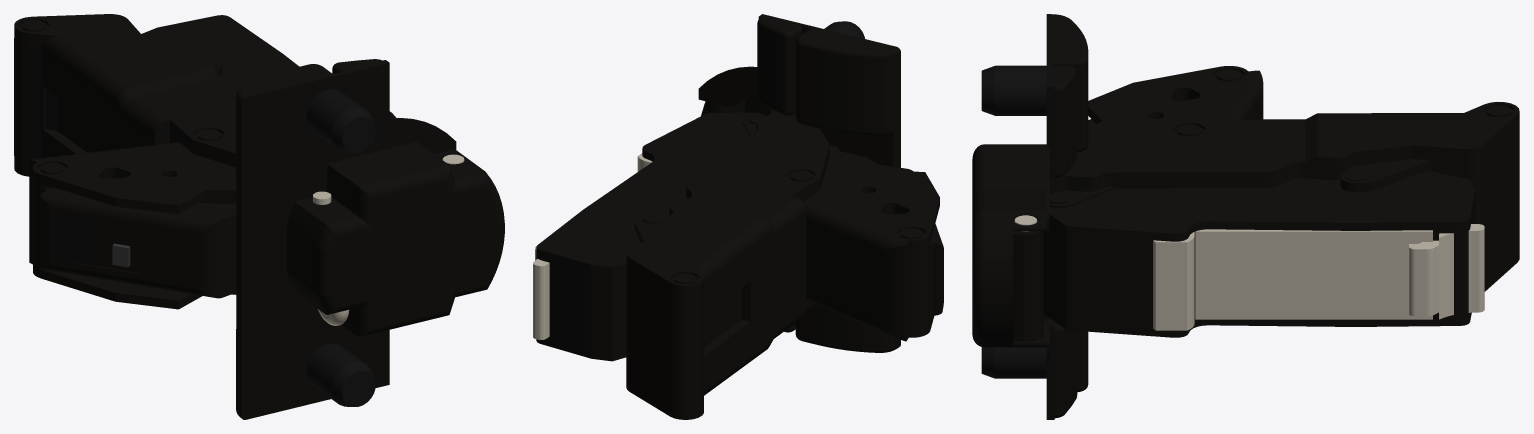
The picture shows the model from 3 angles, left to right: view 1: azimuth 30°, elevation 25°; view 2: azimuth 150°, elevation 25°; view 3: azimuth 270°, elevation 25°; orthographic projection. The views are drawn at different scales.
Visible parts, largest first — view 1: bau0081900639-1, bau0079291413-1, bau0079324562-1, bau0079298416-1, bau0082110774-1, bau0082114196-1; view 2: bau0079291413-1, bau0081900639-1, bau0079298416-1, bau0082110774-1, bau0082114196-1, bau0025540121-1, bau0079324562-1; view 3: bau0079291413-1, bau0082110774-1, bau0025540121-1, bau0081900639-1, bau0079298416-1, bau0082114196-1.
Part boxes in pixels (box(x1,y1,x2,y2)): bau0081900639-1: box(236, 59, 504, 419); bau0079291413-1: box(14, 14, 248, 176); bau0079324562-1: box(40, 187, 236, 298); bau0079298416-1: box(29, 142, 236, 309); bau0082110774-1: box(141, 15, 396, 118); bau0082114196-1: box(14, 38, 222, 163); bau0079291413-1: box(626, 96, 829, 419); bau0081900639-1: box(698, 14, 900, 352); bau0079298416-1: box(742, 113, 939, 341); bau0082110774-1: box(536, 112, 758, 361); bau0082114196-1: box(634, 213, 703, 407); bau0025540121-1: box(533, 153, 652, 339); bau0079324562-1: box(829, 145, 943, 317); bau0079291413-1: box(1013, 101, 1519, 341); bau0082110774-1: box(1043, 170, 1475, 337); bau0025540121-1: box(1153, 224, 1484, 330); bau0081900639-1: box(972, 14, 1088, 419); bau0079298416-1: box(1049, 66, 1263, 207); bau0082114196-1: box(1340, 125, 1519, 248).
Size of the model in its own units: 65.7 by 57 by 84.91.
